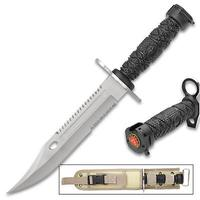knife: (6, 26, 176, 199)
